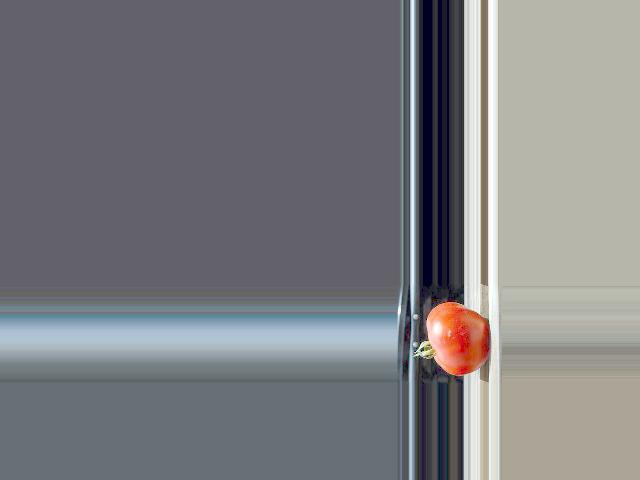tomato: (413, 302, 488, 375)
